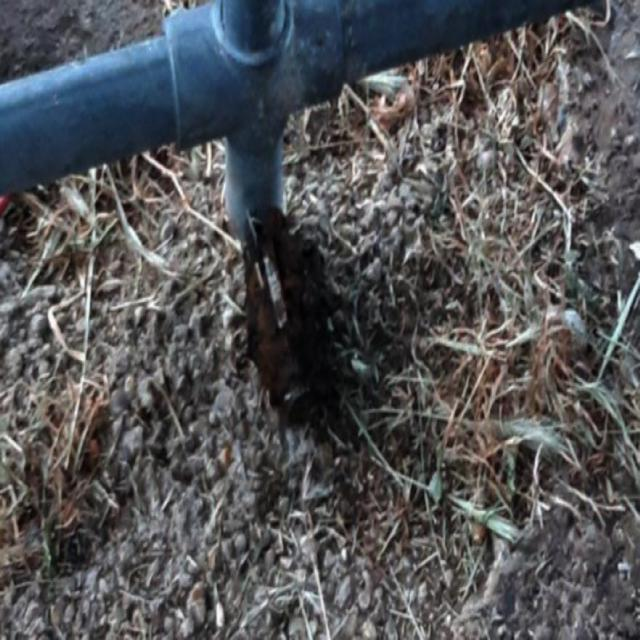grenade: (244, 207, 334, 430)
